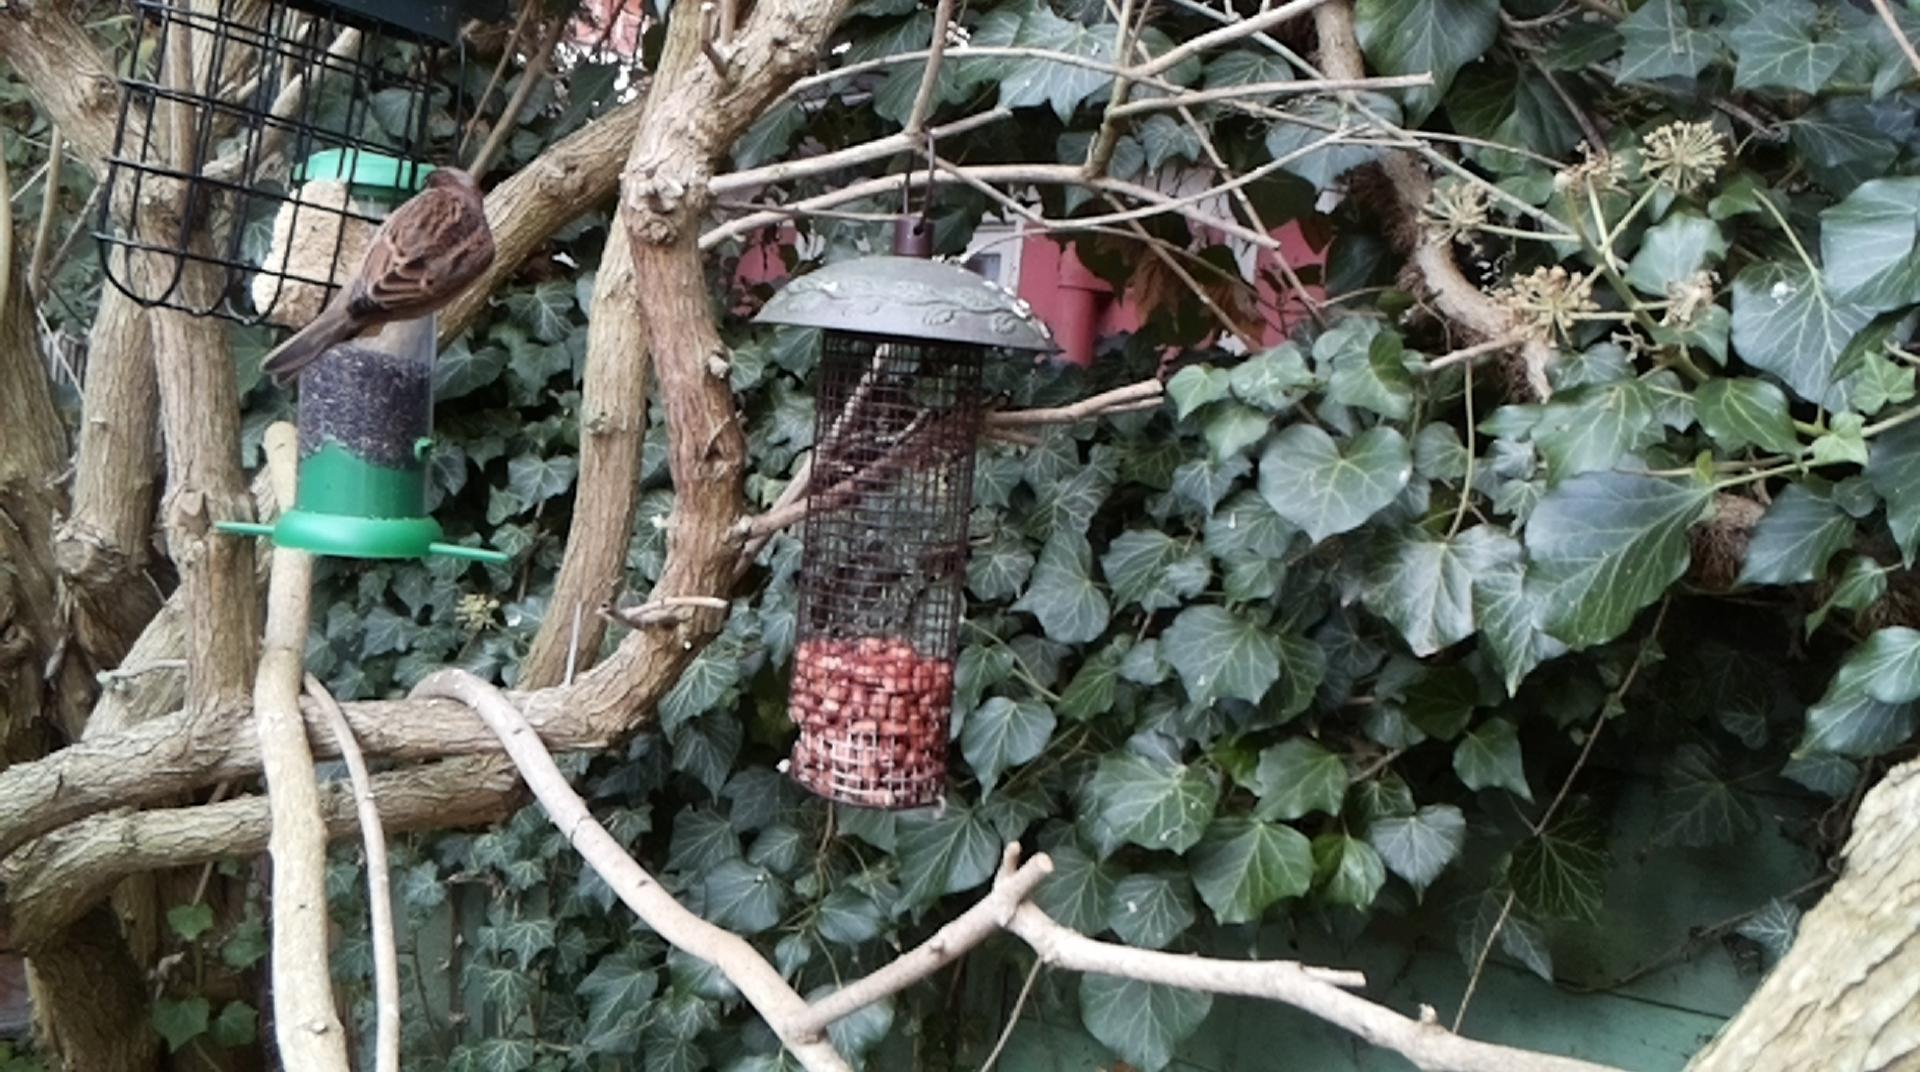sparrow: (258, 160, 500, 392)
